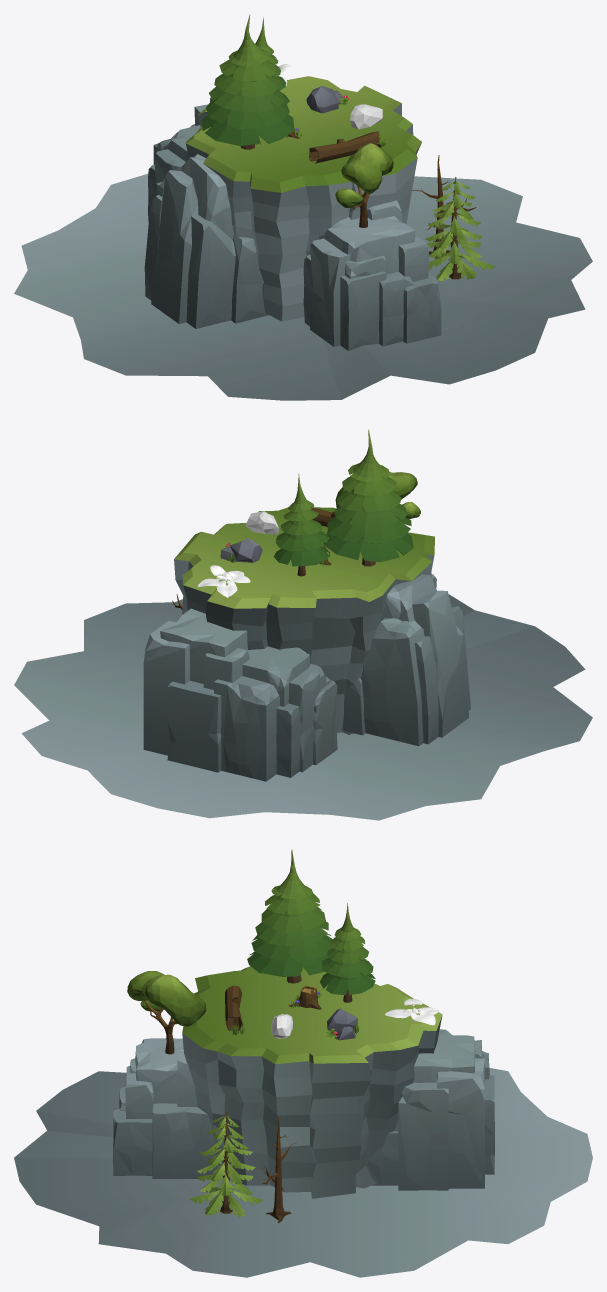
File: mountain-low-policy.gltf
3 renders of one model, top to bottom at view 1: azimuth 30°, elevation 25°; view 2: azimuth 150°, elevation 25°; view 3: azimuth 270°, elevation 25°, orthographic.
Visible parts, largest first — view 1: Circle, Plane, BigRock_01, BigRock_03, Tree_02, Tree_06, Tree_05, BigRock_02, Log_01, Model_02, Rock 29, Tree_01 (+1 smaller); view 2: Circle, BigRock_02, Plane, BigRock_03, Tree_02, Tree_01, UbayuriMatome.003, Tree_05, Model_02, Rock 29; view 3: Circle, Plane, BigRock_02, BigRock_01, Tree_02, Tree_06, Tree_05, Tree_01, Tree_03, Model_02, UbayuriMatome.003, Log_01.
Part boxes in pixels (<box>): Circle: <box>14,173,592,400</box>; Plane: <box>186,76,421,321</box>; BigRock_01: <box>303,200,441,350</box>; BigRock_03: <box>144,154,268,328</box>; Tree_02: <box>201,14,294,149</box>; Tree_06: <box>425,177,495,281</box>; Tree_05: <box>335,143,393,227</box>; BigRock_02: <box>148,97,211,221</box>; Log_01: <box>309,131,381,163</box>; Model_02: <box>306,86,348,113</box>; Rock 29: <box>350,104,382,129</box>; Tree_01: <box>255,17,289,103</box>; Circle: <box>14,594,592,820</box>; BigRock_02: <box>143,608,337,781</box>; Plane: <box>174,507,434,734</box>; BigRock_03: <box>342,574,470,746</box>; Tree_02: <box>323,429,413,566</box>; Tree_01: <box>273,473,329,576</box>; UbayuriMatome.003: <box>197,565,250,597</box>; Tree_05: <box>335,471,420,519</box>; Model_02: <box>220,538,262,562</box>; Rock 29: <box>245,511,279,534</box>; Circle: <box>14,1067,592,1277</box>; Plane: <box>182,966,442,1198</box>; BigRock_02: <box>366,1029,494,1190</box>; BigRock_01: <box>113,1038,217,1178</box>; Tree_02: <box>247,849,332,983</box>; Tree_06: <box>190,1112,262,1216</box>; Tree_05: <box>127,971,206,1054</box>; Tree_01: <box>320,903,375,1002</box>; Tree_03: <box>261,1116,296,1222</box>; Model_02: <box>326,1008,358,1040</box>; UbayuriMatome.003: <box>385,999,439,1025</box>; Log_01: <box>225,985,242,1030</box>.
Size of the model in its own units: 3.39 by 1.84 by 3.46.
4 materials, 3 textured.
